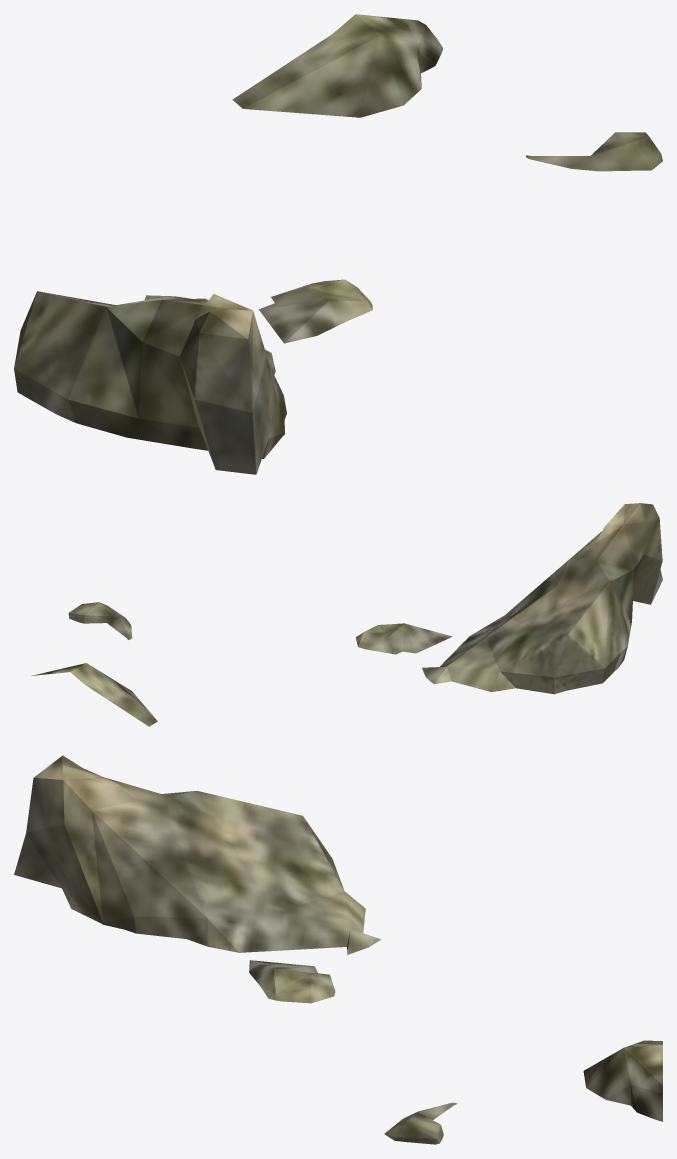
3 renders of one model, top to bottom at view 1: azimuth 30°, elevation 25°; view 2: azimuth 150°, elevation 25°; view 3: azimuth 270°, elevation 25°, orthographic. The views are drawn at different scales.
Size of the model in its own units: 2.9 by 0.6285 by 2.83.
Materials: 1 (1 with a texture image).
